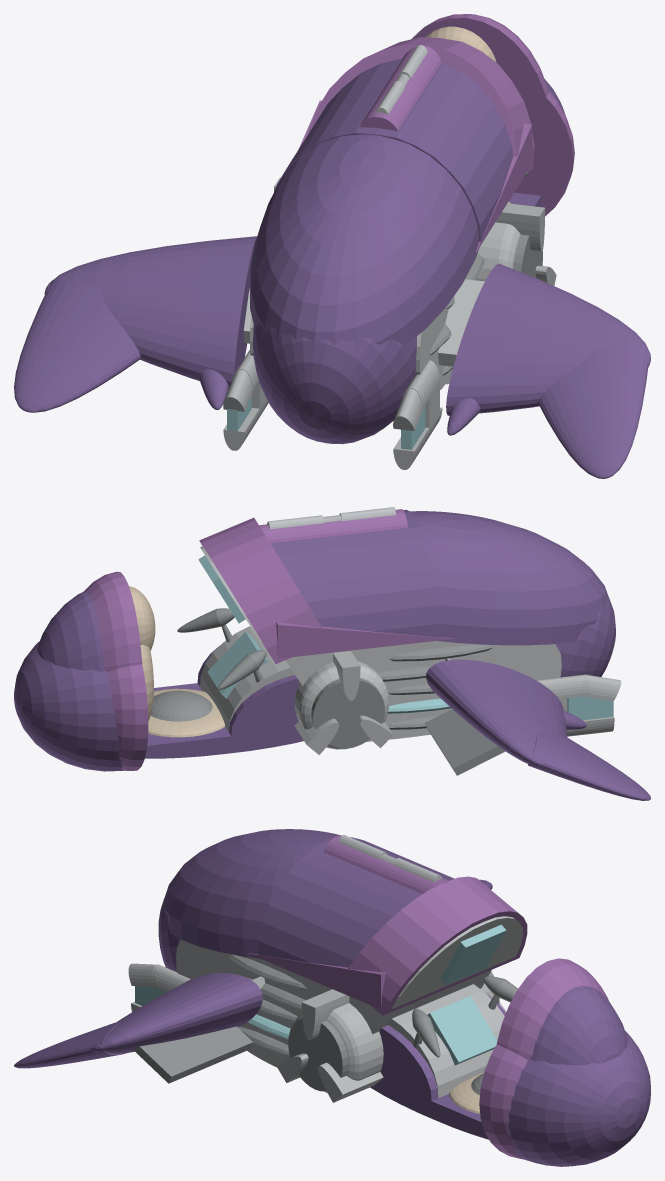
The model's file is HaloGhost.glb.
3 views of the same model, one above another, from view 1: azimuth 30°, elevation 25°; view 2: azimuth 150°, elevation 25°; view 3: azimuth 270°, elevation 25° (orthographic). The views are drawn at different scales.
Parts seen in each view (by area): view 1: Mesh_Mesh_head_geo.001_lambert2SG.001; view 2: Mesh_Mesh_head_geo.001_lambert2SG.001; view 3: Mesh_Mesh_head_geo.001_lambert2SG.001.
Boxes of the visible parts, x1,y1,x2,y2 form: Mesh_Mesh_head_geo.001_lambert2SG.001: (14,14,650,478); Mesh_Mesh_head_geo.001_lambert2SG.001: (14,507,650,800); Mesh_Mesh_head_geo.001_lambert2SG.001: (14,829,650,1166).
Bounding box in the file's own units: 66.74 × 26.5 × 65.97.
